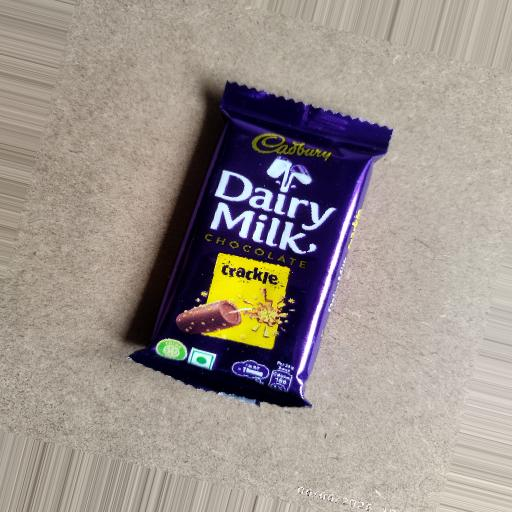Cadbury Dairy Milk Crackle: (92, 51, 413, 442)
